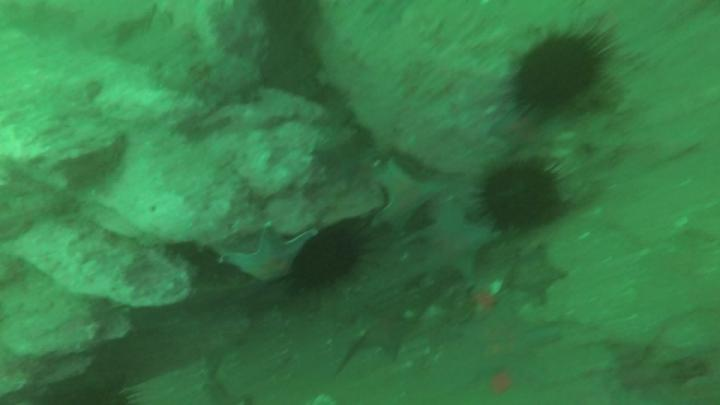scallop: (513, 36, 602, 110), (484, 165, 559, 229), (295, 227, 363, 293), (493, 277, 503, 294)
starfish: (458, 307, 560, 382), (423, 197, 494, 277), (215, 230, 318, 284), (372, 163, 436, 237), (512, 245, 565, 299), (358, 306, 413, 358), (490, 107, 547, 151)
